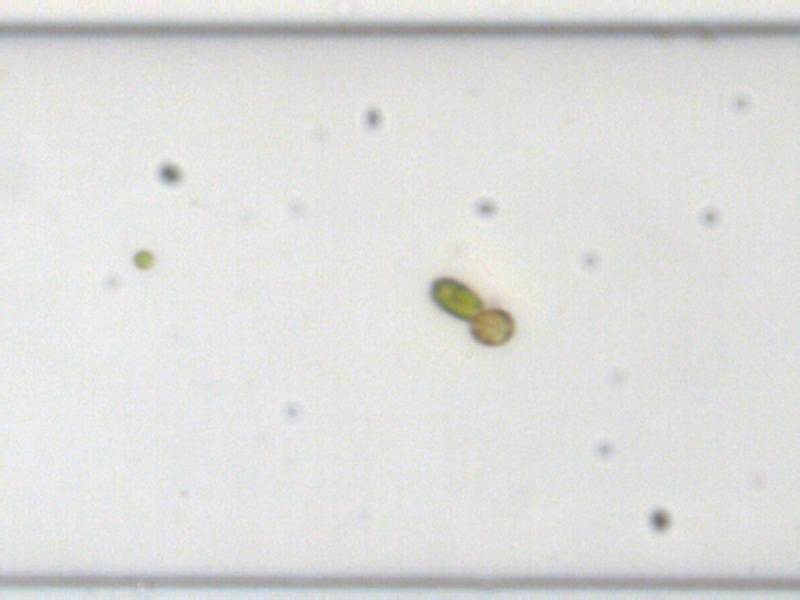Chlorella: (134, 247, 154, 268)
Effrenium: (470, 308, 516, 347)
Platymonas: (431, 276, 483, 319)
